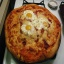pizza: (7, 7, 58, 60)
